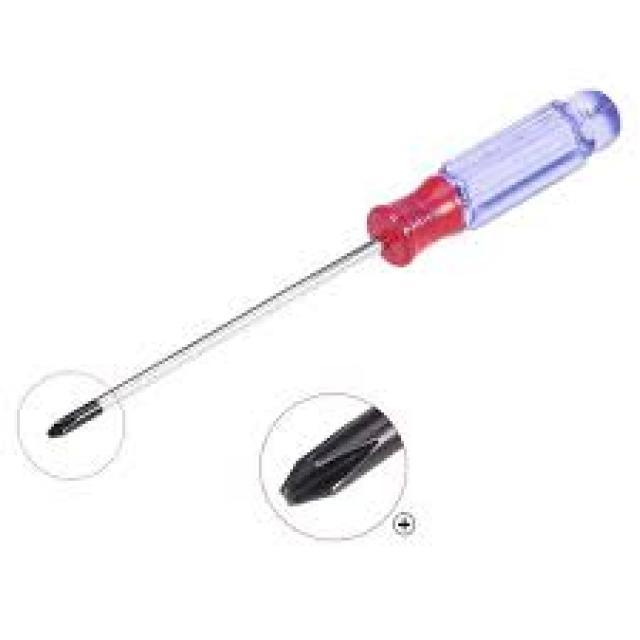screwdriver: (42, 90, 626, 442)
